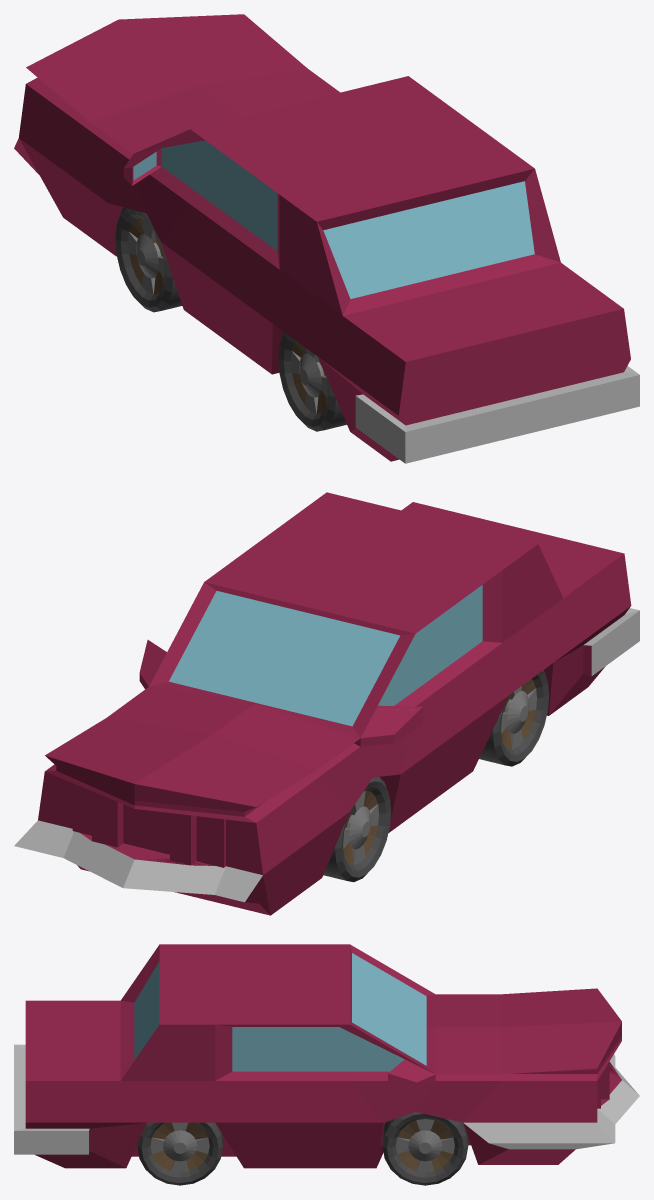
File: Actor_PlayerCar.fbx
3 views of the same model, one above another, from view 1: azimuth 30°, elevation 25°; view 2: azimuth 150°, elevation 25°; view 3: azimuth 270°, elevation 25° (orthographic). The views are drawn at different scales.
Visible parts, largest first — view 1: PlayerCar; view 2: PlayerCar; view 3: PlayerCar.
Boxes of the visible parts, x1,y1,x2,y2 form: PlayerCar: (14,14,639,463); PlayerCar: (14,492,639,915); PlayerCar: (14,944,639,1185).
Size of the model in its own units: 79.12 by 57.75 by 201.
